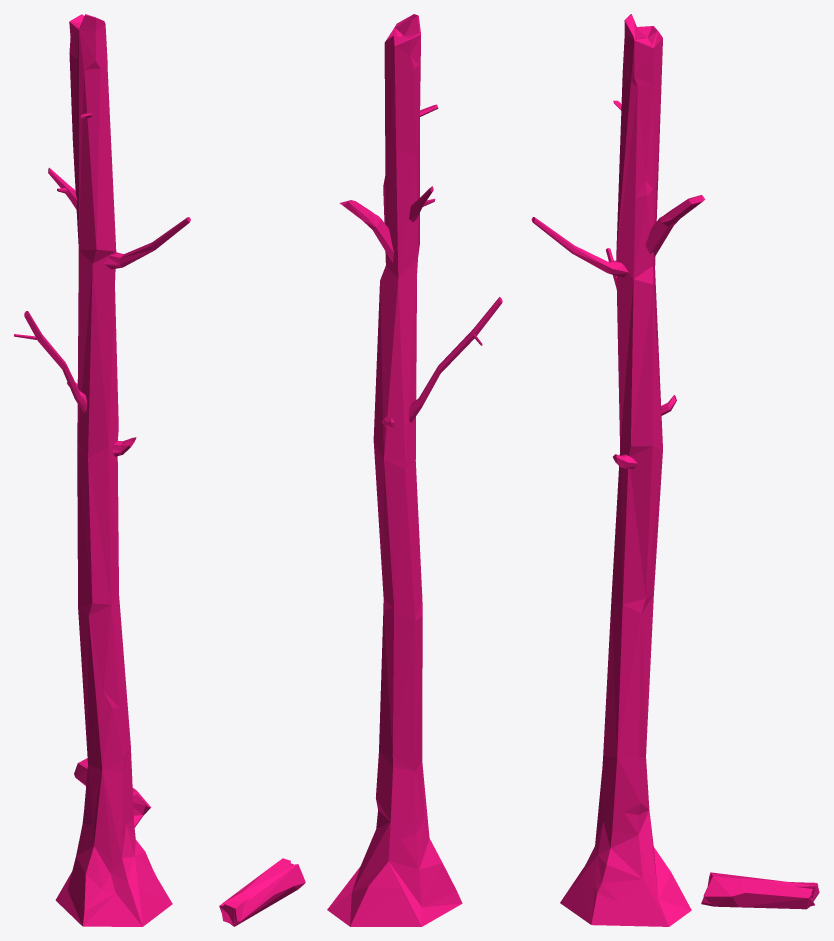
File: SM_Tree_Birch_Dead_E.fbx
3 views of the same model, side by side, from view 1: azimuth 30°, elevation 25°; view 2: azimuth 150°, elevation 25°; view 3: azimuth 270°, elevation 25° (orthographic). The views are drawn at different scales.
Parts seen in each view (by area): view 1: SM_Tree_Birch_Dead_E; view 2: SM_Tree_Birch_Dead_E; view 3: SM_Tree_Birch_Dead_E.
Boxes of the visible parts, x1,y1,x2,y2 form: SM_Tree_Birch_Dead_E: (14,14,190,926); SM_Tree_Birch_Dead_E: (219,14,502,926); SM_Tree_Birch_Dead_E: (531,14,819,926).
Size of the model in its own units: 1.15 by 5.44 by 1.62.
